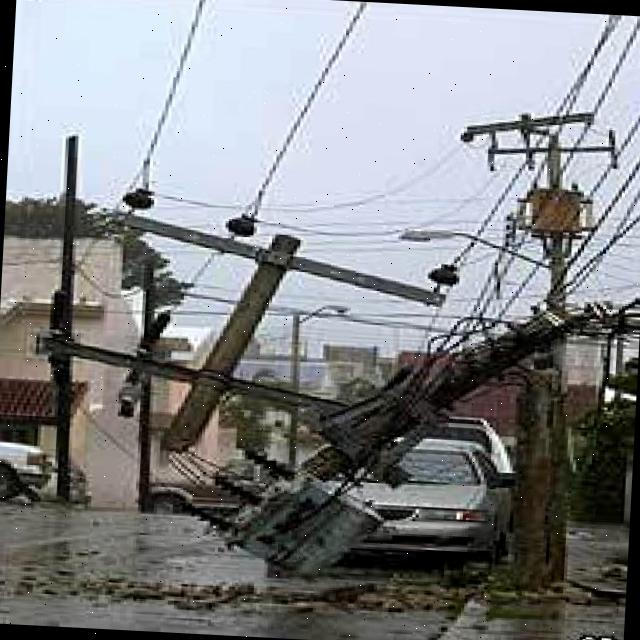Broken Pole: (48, 181, 383, 472)
